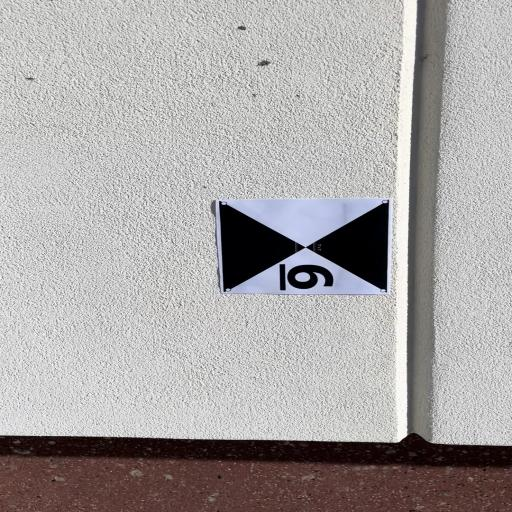target6: (215, 198, 390, 295)
